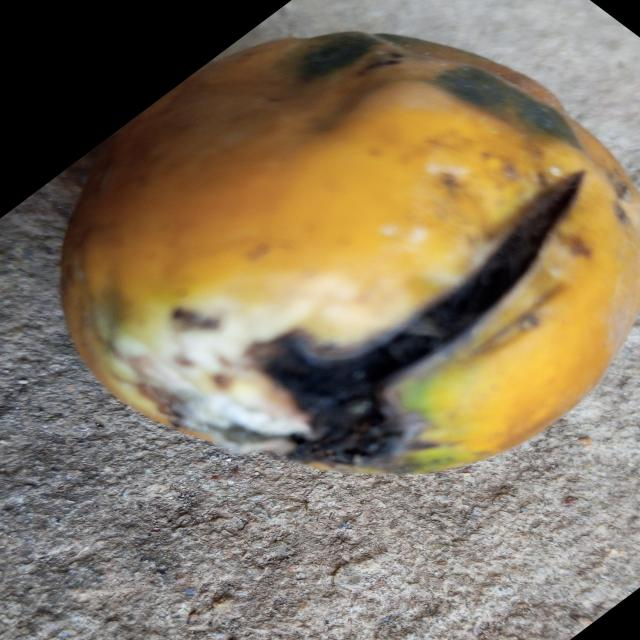damaged: (59, 30, 640, 475)
